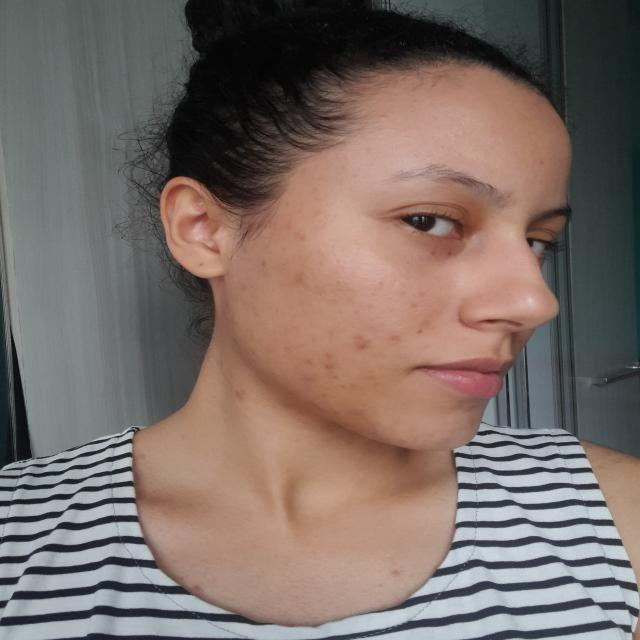Acne: (284, 220, 308, 242), (352, 332, 374, 352), (290, 273, 310, 286), (389, 332, 408, 344), (454, 124, 469, 138), (258, 257, 271, 273), (443, 144, 460, 156), (319, 351, 341, 360), (347, 408, 364, 418), (366, 374, 376, 391), (236, 282, 253, 292), (312, 210, 328, 220), (378, 112, 392, 123), (412, 328, 428, 337), (300, 356, 314, 366), (279, 345, 299, 352), (322, 362, 338, 370), (359, 400, 372, 408), (410, 297, 421, 306), (298, 375, 310, 383), (337, 384, 348, 391), (329, 373, 340, 380)
Englarged-Pores: (366, 263, 409, 292), (364, 306, 408, 328)
